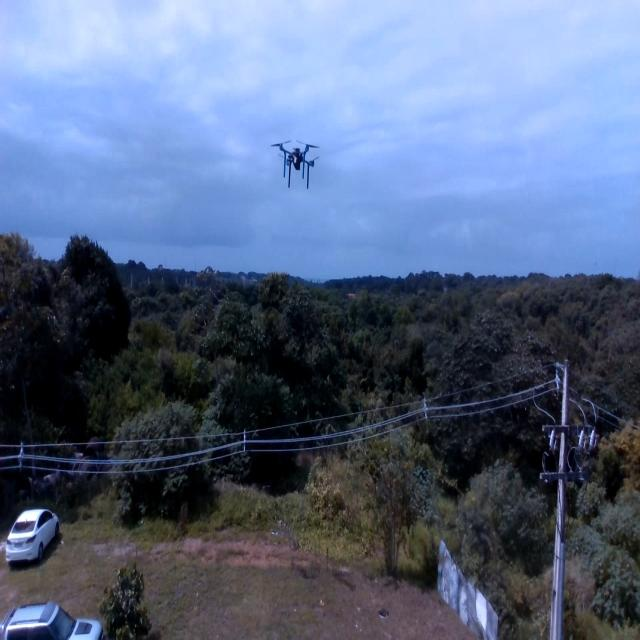-uav-: (268, 124, 322, 200)
